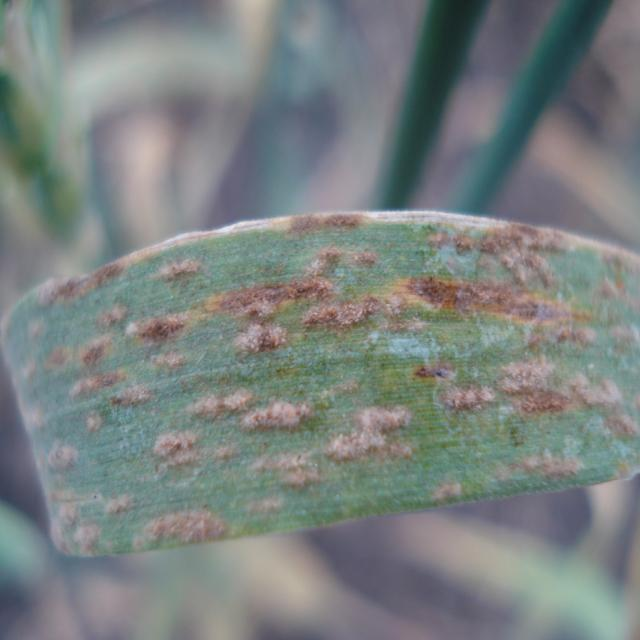wheat-powdery-mildew: (2, 211, 640, 561)
